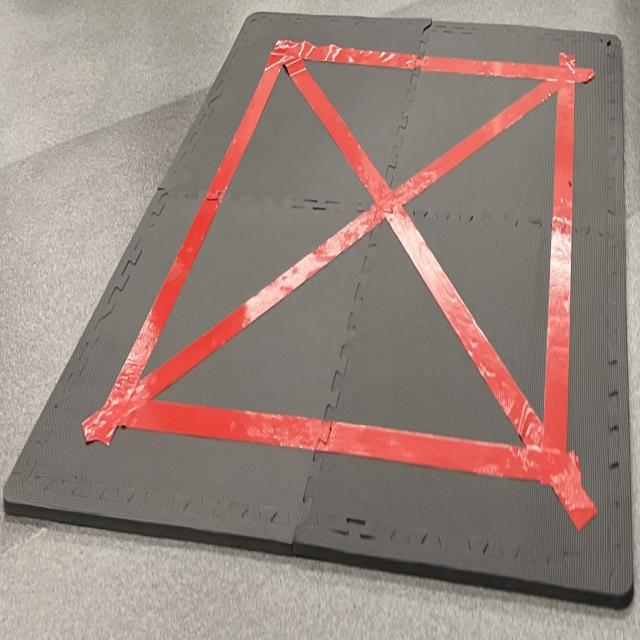landingPads: (4, 11, 629, 602)
